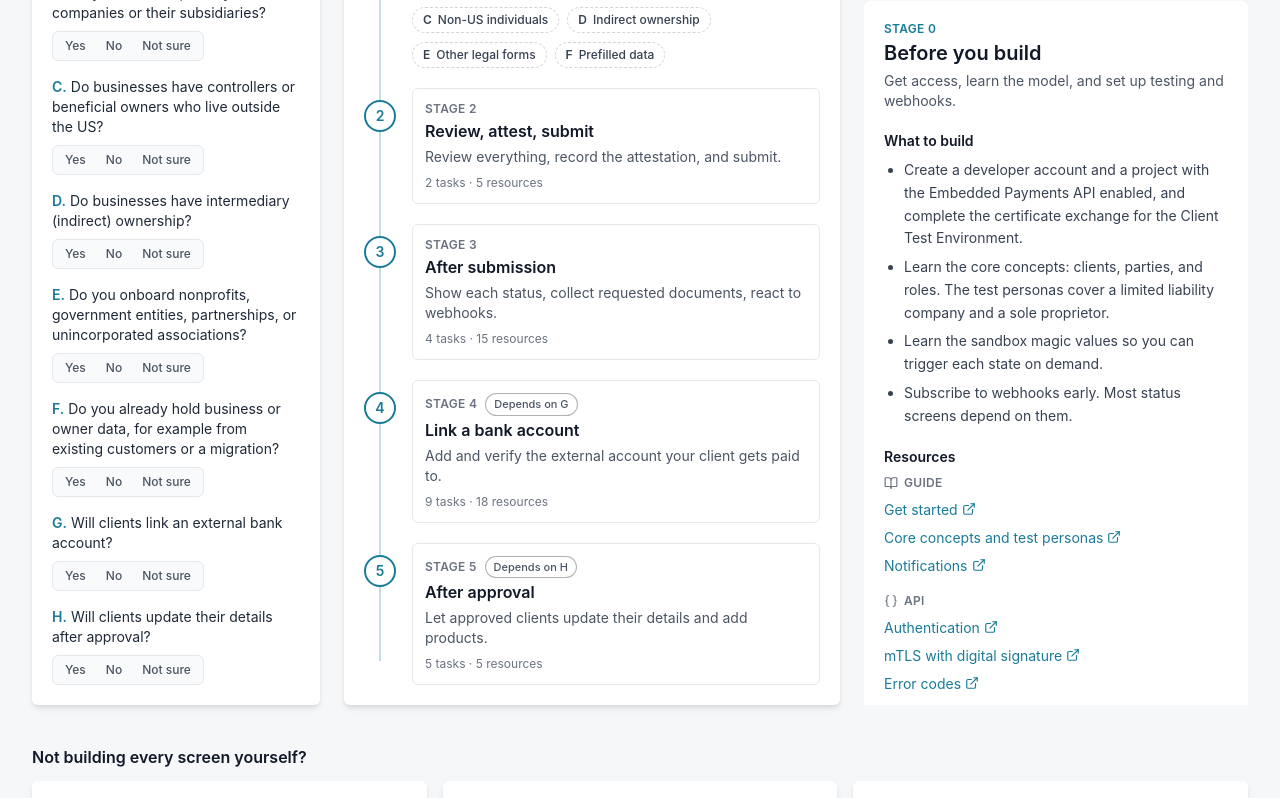
UxAtlasPage › marks a gated stage out of scope when answered no
(page scrolled)
Click the 6th radio button labelled "No" at point(114, 576), box [106,568,122,583]
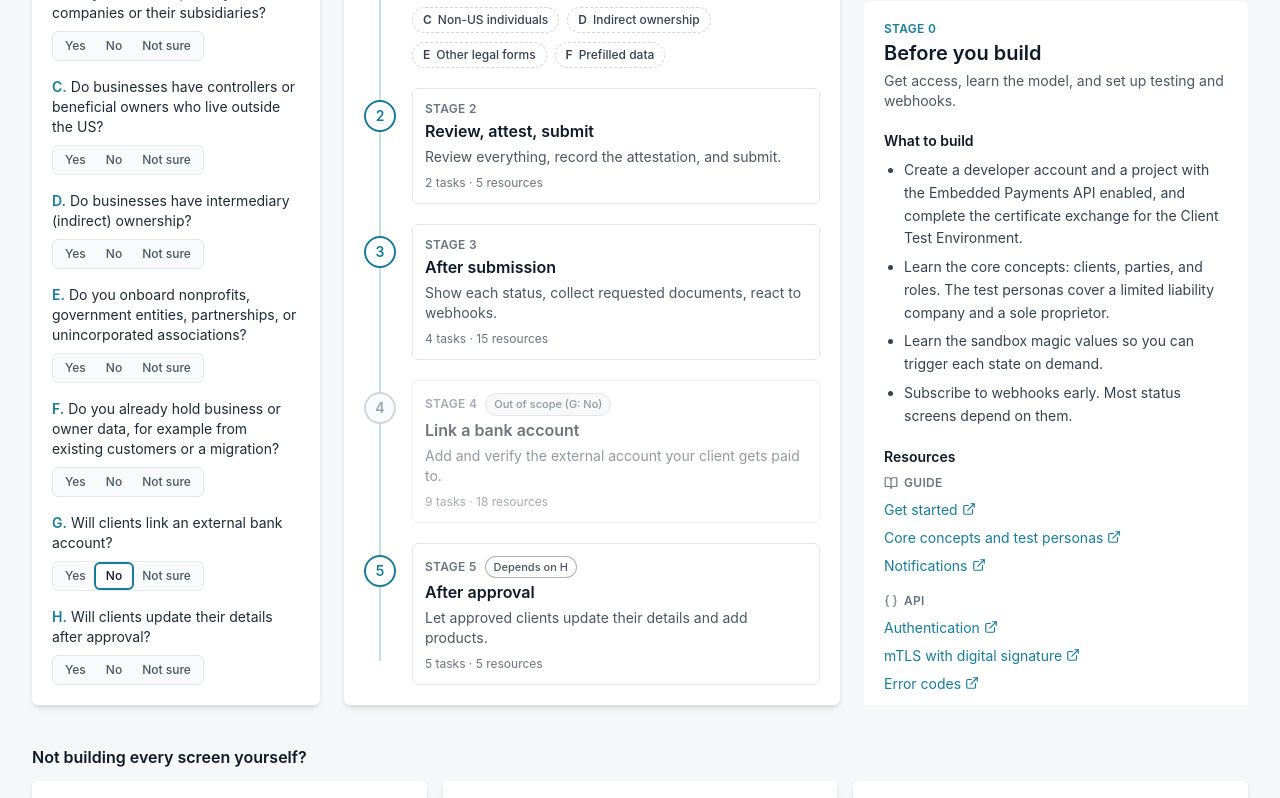
Now the text "Out of scope (G: No)" is shown, box [485,393,611,416]
